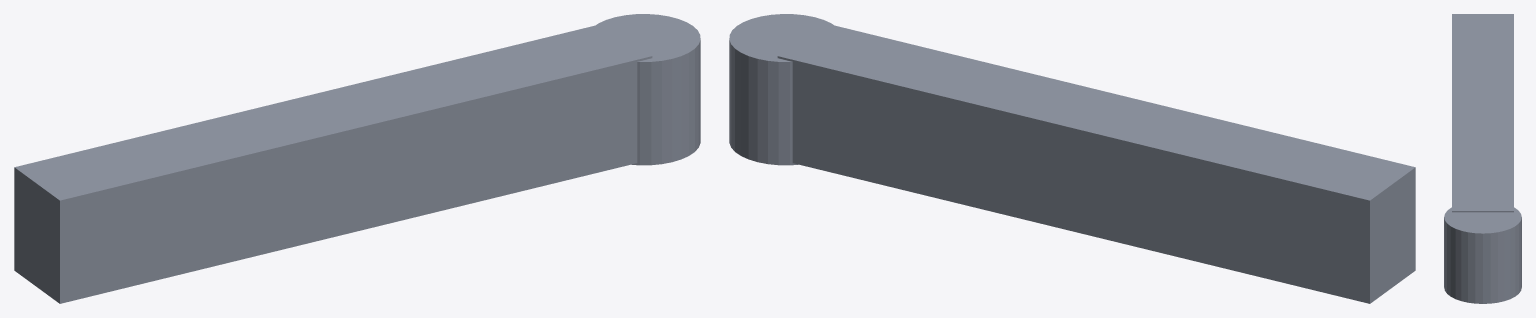
The picture shows the model from 3 angles, left to right: view 1: azimuth 30°, elevation 25°; view 2: azimuth 150°, elevation 25°; view 3: azimuth 270°, elevation 25°; orthographic projection. The views are drawn at different scales.
Visible parts, largest first — view 1: tmp_export_Cylinder.006; view 2: tmp_export_Cylinder.006; view 3: tmp_export_Cylinder.006.
Boxes of the visible parts, x1=… form: tmp_export_Cylinder.006: x1=14, y1=14, x2=700, y2=303; tmp_export_Cylinder.006: x1=729, y1=14, x2=1415, y2=303; tmp_export_Cylinder.006: x1=1444, y1=14, x2=1521, y2=303.
Size of the model in its own units: 13.29 by 2 by 2.04.
